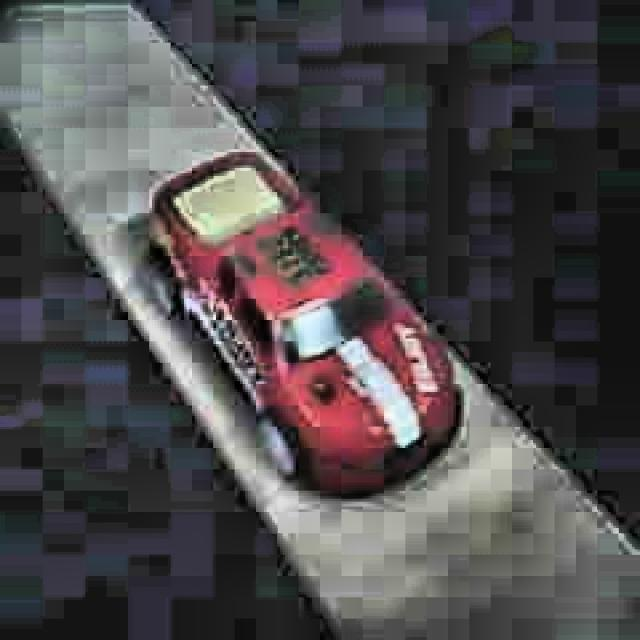car: (147, 145, 467, 507)
